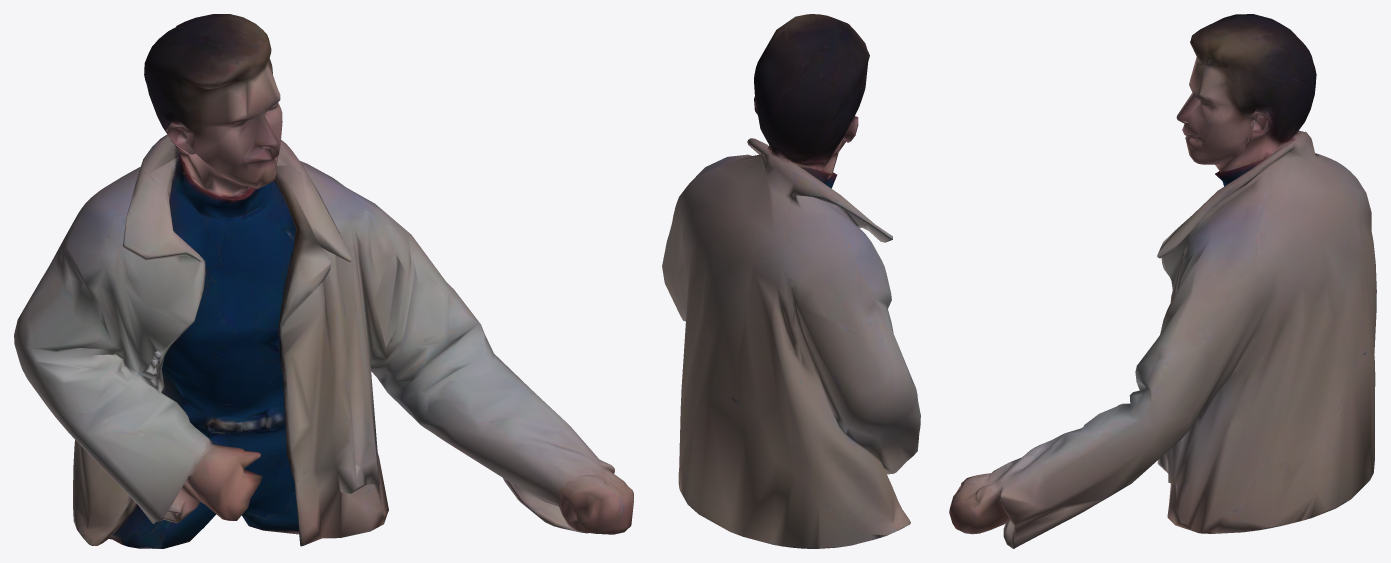
The model's file is rick.glb.
The picture shows the model from 3 angles, left to right: view 1: azimuth 30°, elevation 25°; view 2: azimuth 150°, elevation 25°; view 3: azimuth 270°, elevation 25°; orthographic projection. The views are drawn at different scales.
Parts seen in each view (by area): view 1: node_0; view 2: node_0; view 3: node_0.
Boxes of the visible parts, x1,y1,x2,y2 form: node_0: [14, 14, 633, 548]; node_0: [662, 14, 920, 548]; node_0: [949, 14, 1376, 548].
Size of the model in its own units: 0.7385 by 0.8588 by 0.7435.
1 material, 1 textured.
